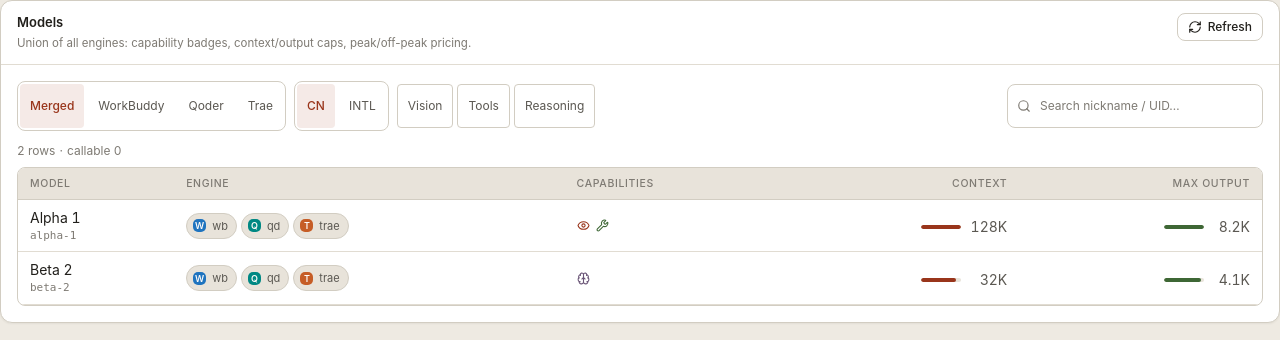
ModelsView › 能力筛选（视觉）只留带该能力的模型
Check: the text "Alpha 1" is shown, box [30,209,81,226]
Click the button "Vision" at (425, 106), box [397,84,453,128]
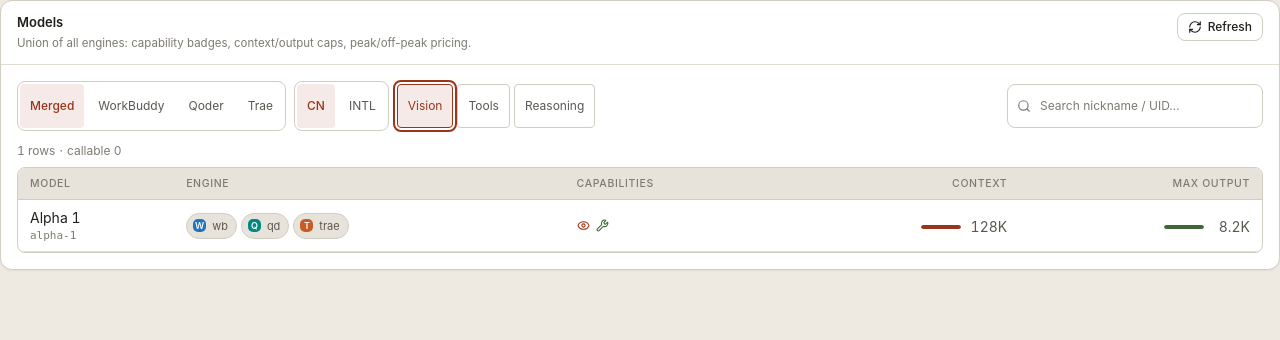
Check: the text "Alpha 1" is shown, box [30,209,81,226]
Check: the text "Beta 2" is gone
